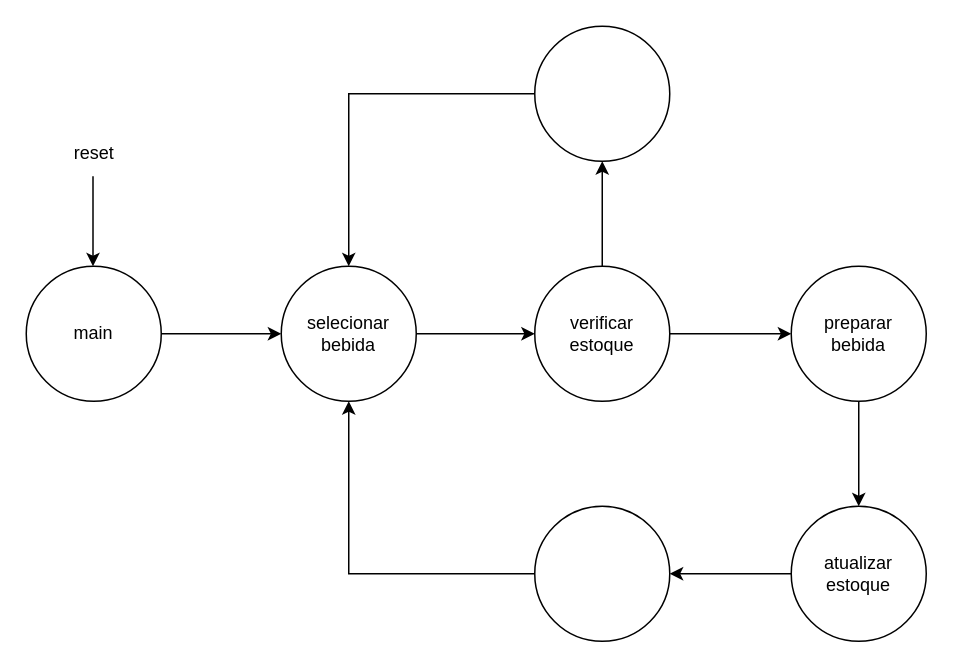
Some shapes in this 953 by 668 pixel diagram are drawn without their labels. The centre of each missing label's shape, as x and y in pixels:
"gerar nota fiscal" goes at point 601,573.
"repor cápsula" goes at point 601,93.
